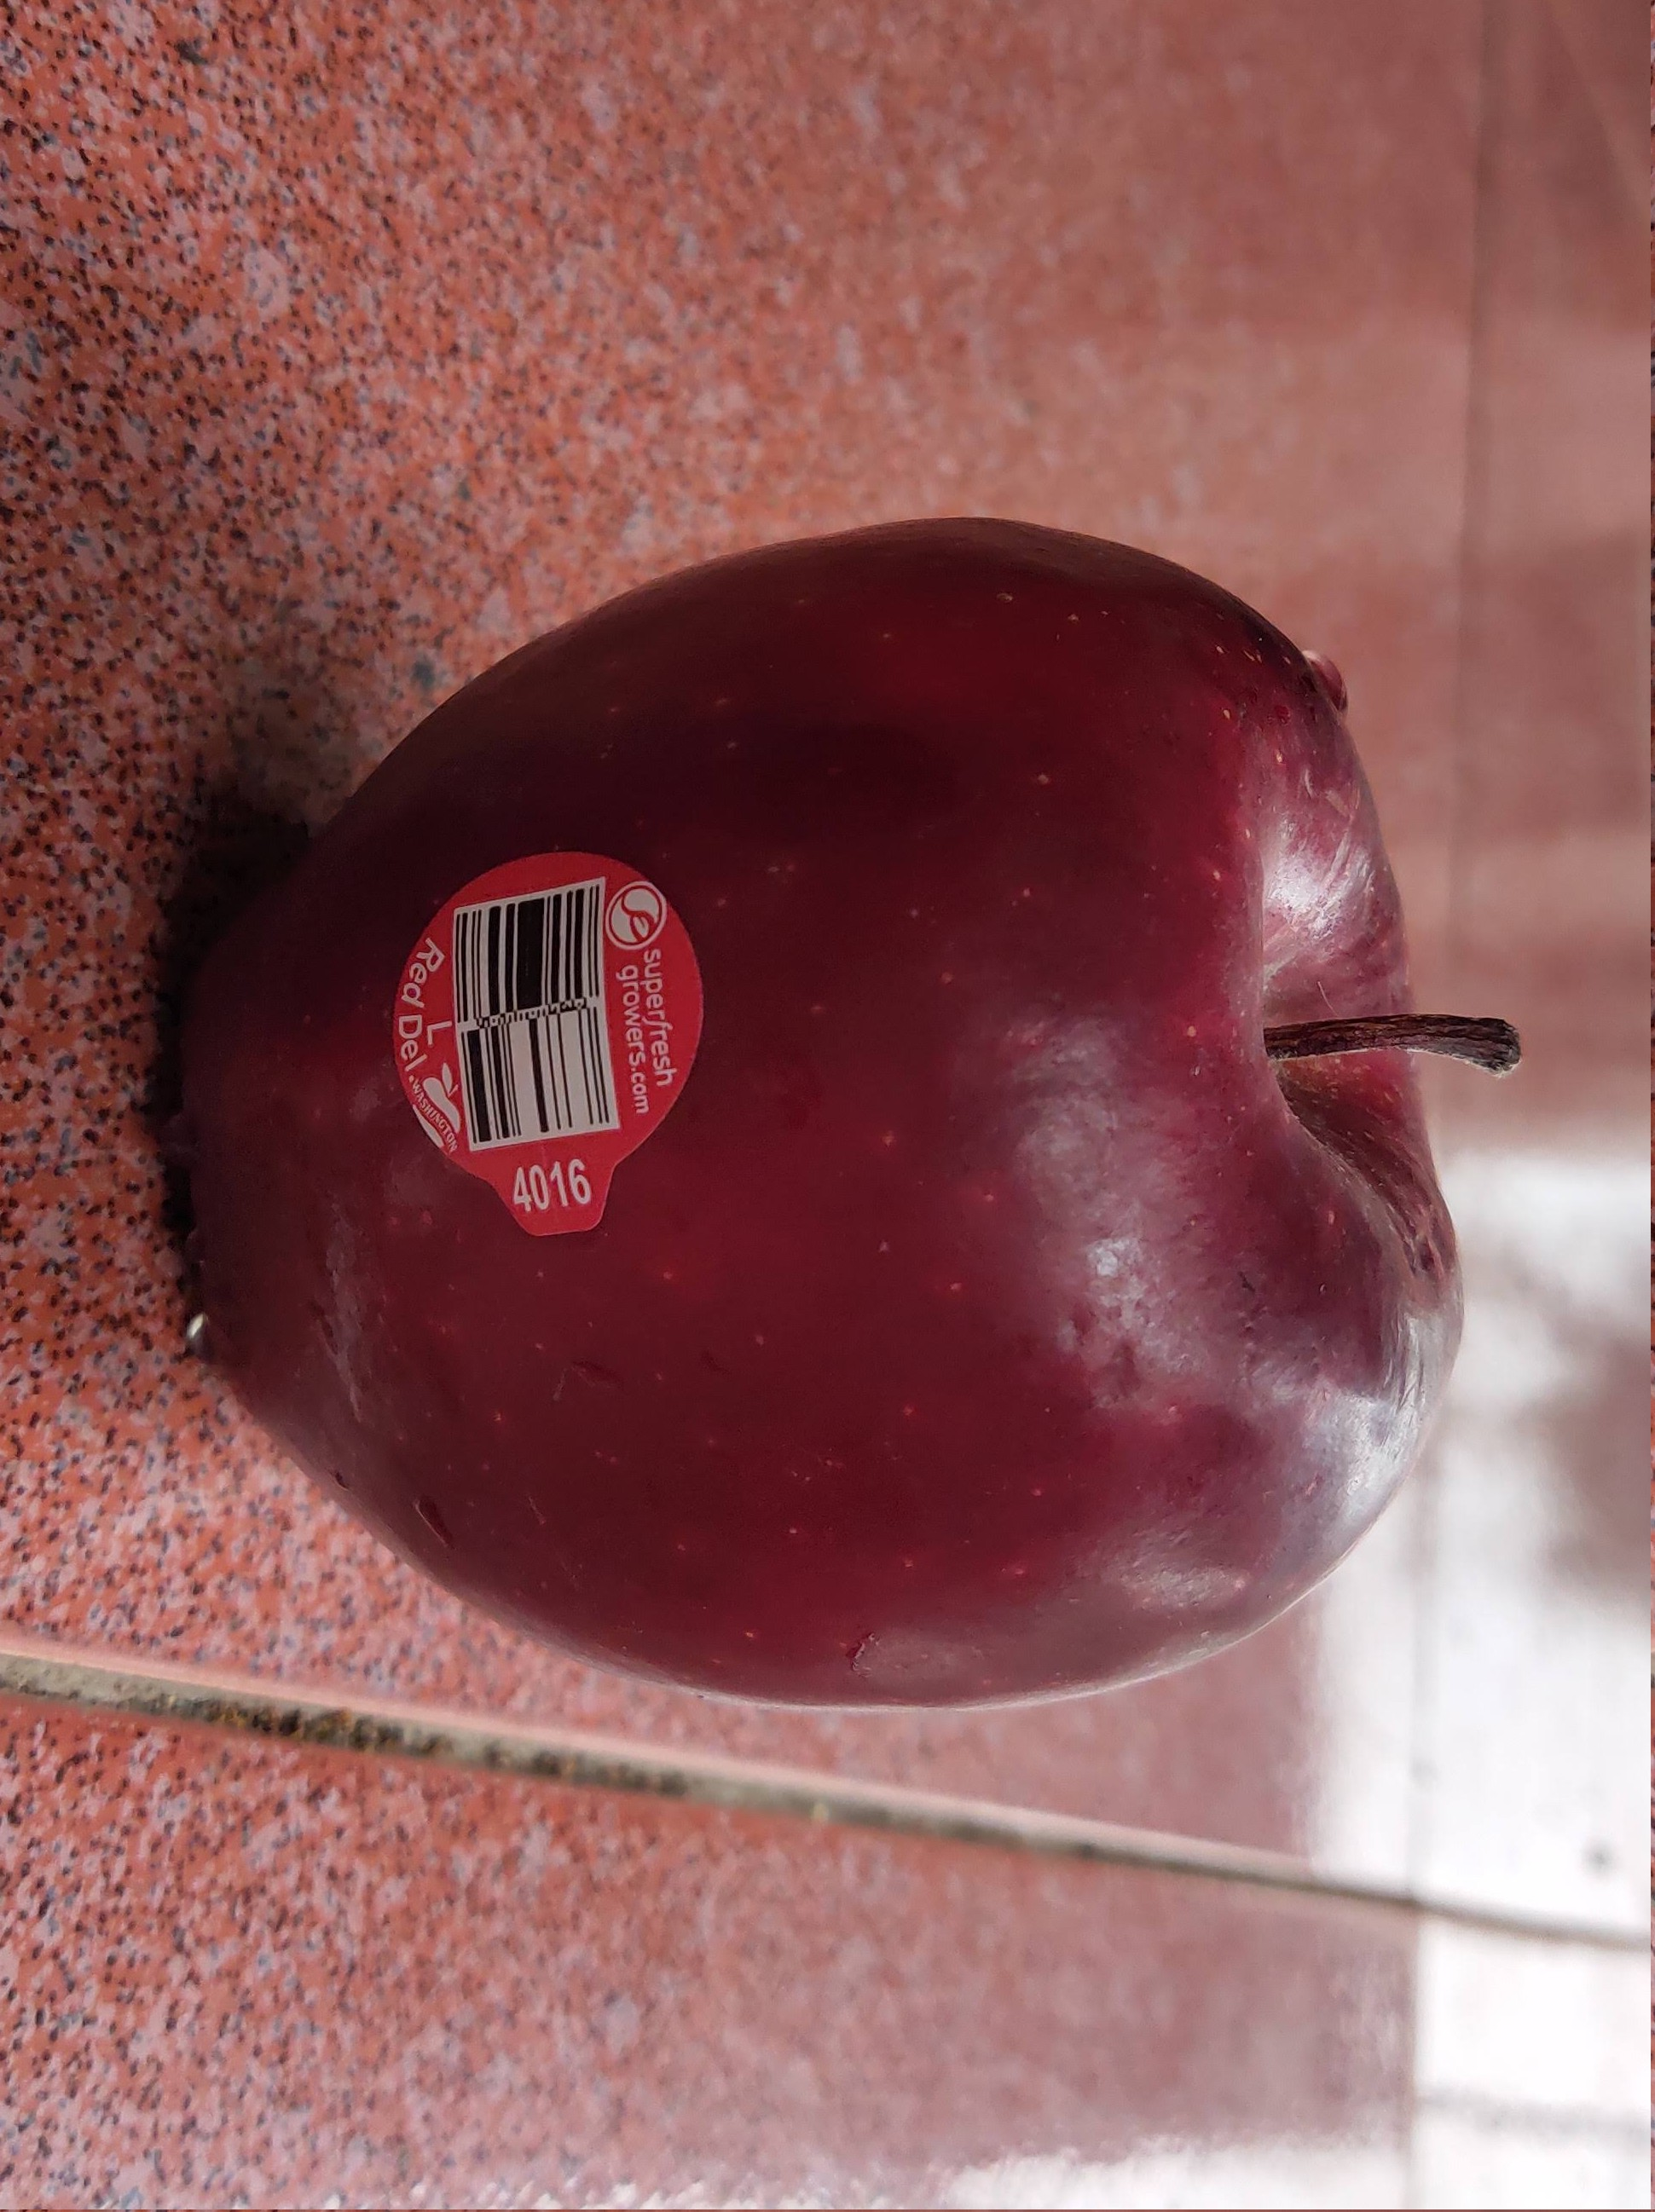apple: (167, 500, 1528, 1717)
